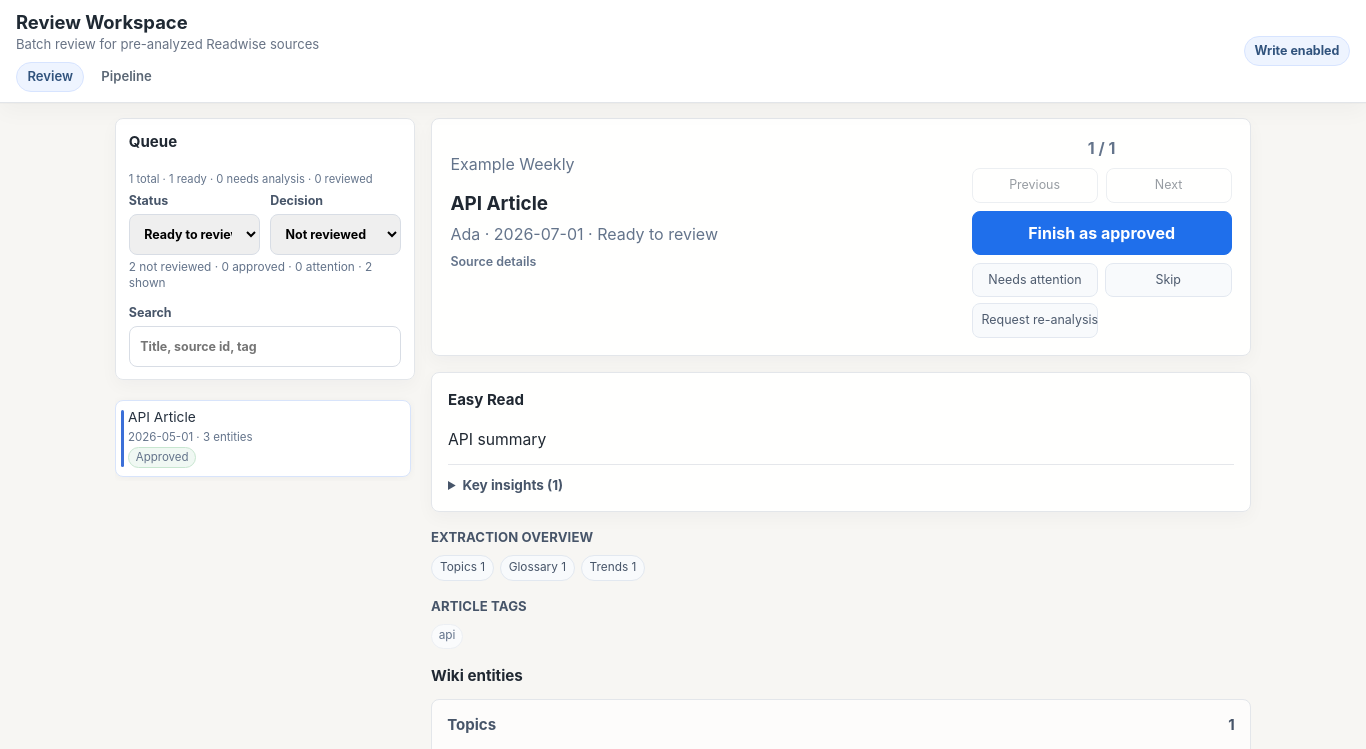
it: App › renders current management decision state when present
The image size is (1366, 749).
expect the heading "API Article" is shown: met, box [450,192,548,215]
expect the text "Approved" is shown: met, box [128,447,196,468]
Click the heading "Source details".
click(493, 262)  # box [450,254,536,270]
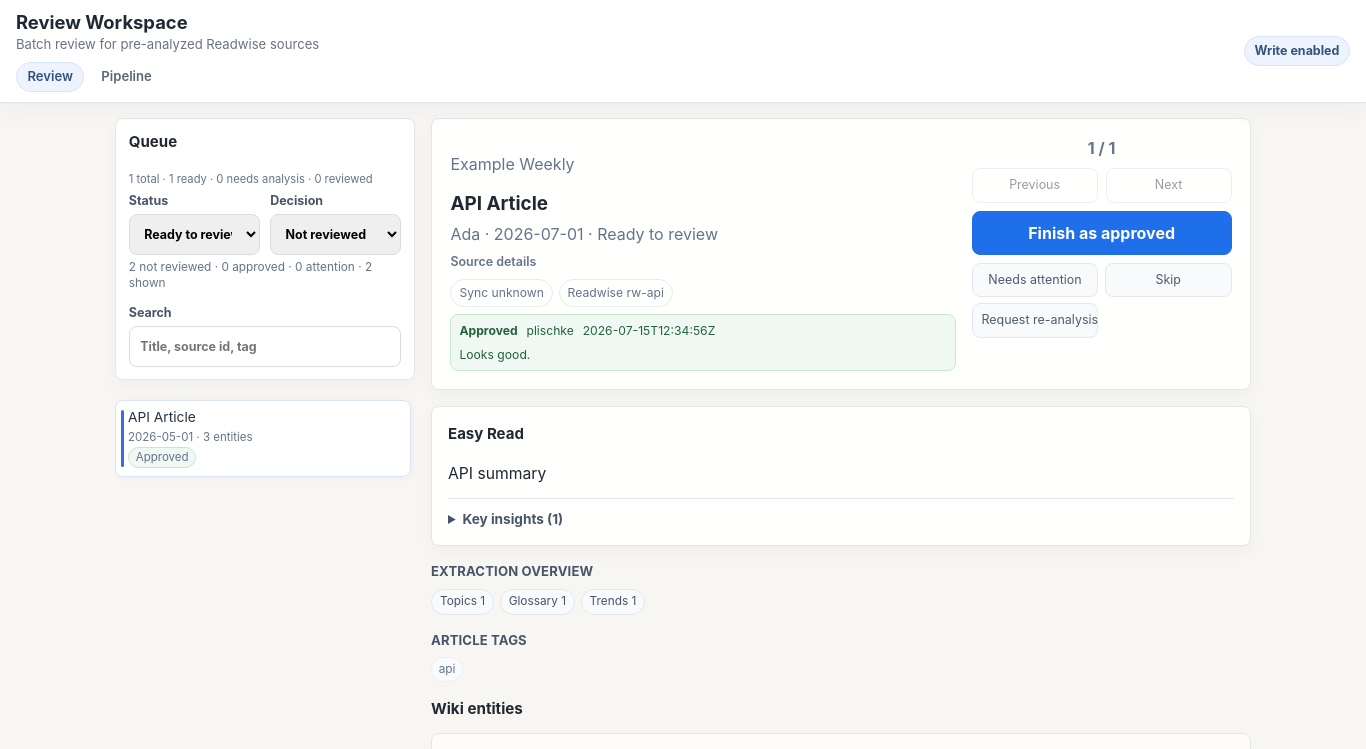
expect the text "Approved" below "Search" is shown: met, box [136,450,189,464]
expect the text "plischke" is shown: met, box [526,322,574,340]
expect the text "Looks good." is shown: met, box [459,347,530,362]
